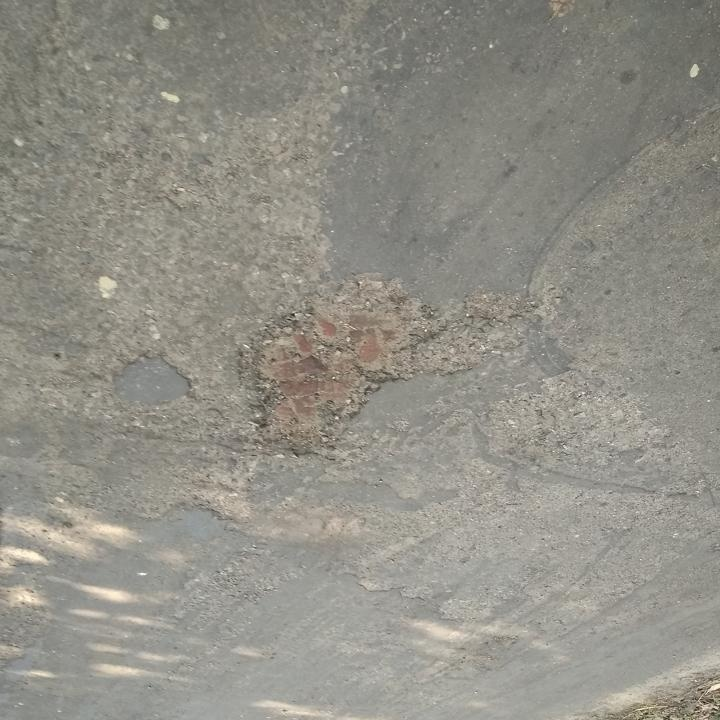pothole: (236, 277, 438, 464)
